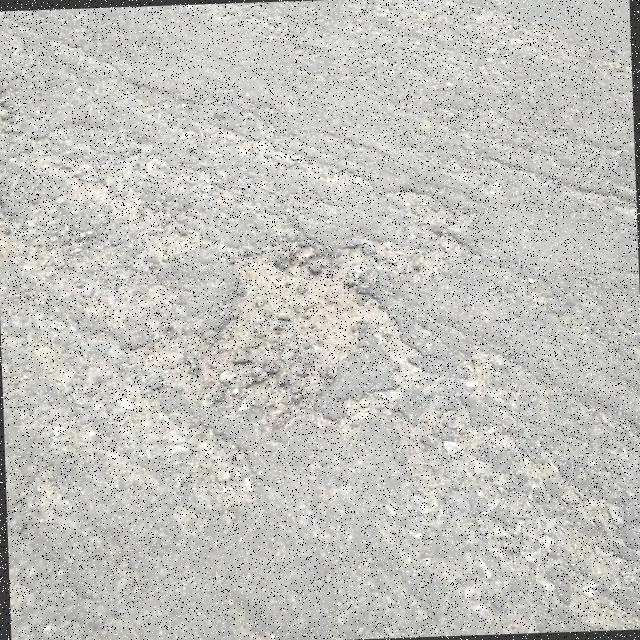Pothole: (199, 248, 420, 420)
